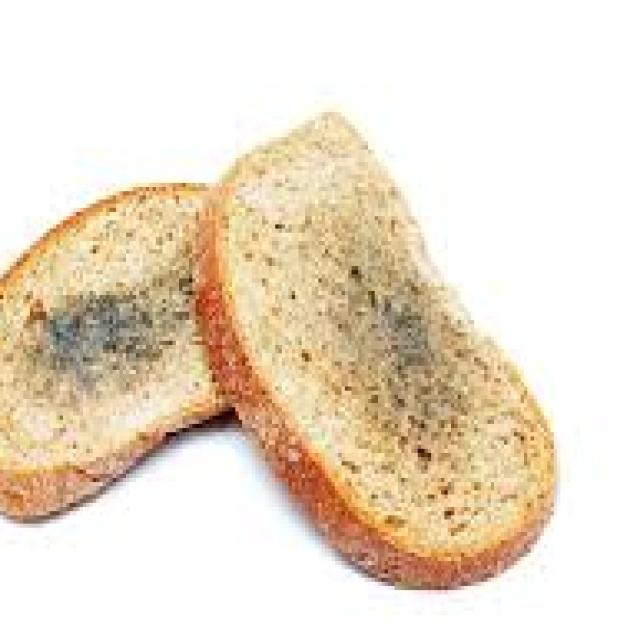inorganic: (9, 95, 574, 610)
